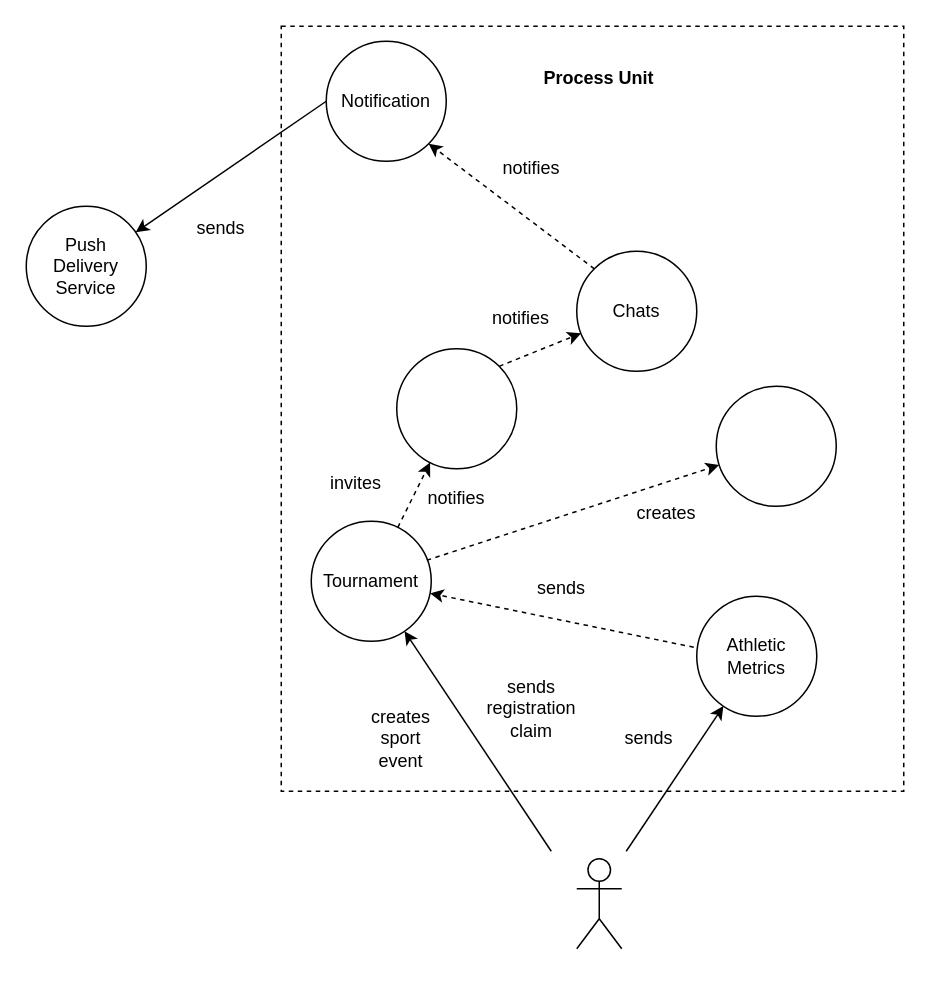
Image size: 930x1007. Some labels were removed from this diagram. Each missing label, with the centre of its shape:
Achievements: (x=775, y=445)
Actor: (x=598, y=903)
Groups: (x=456, y=408)
